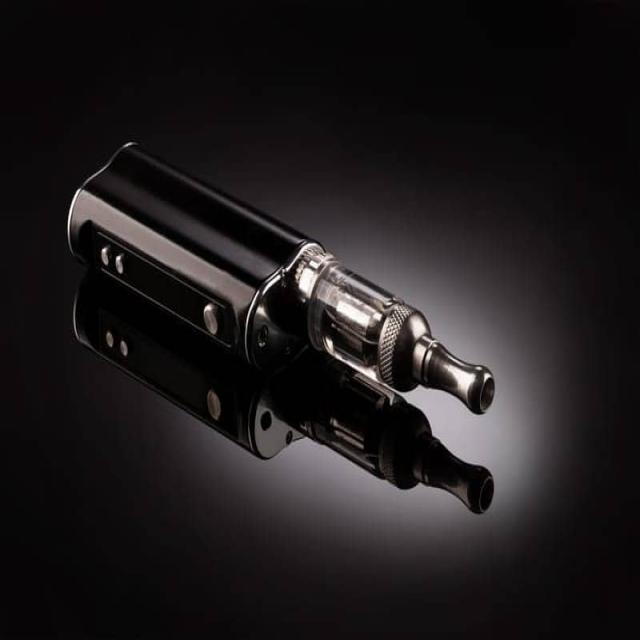Cigarette: (66, 143, 497, 414)
